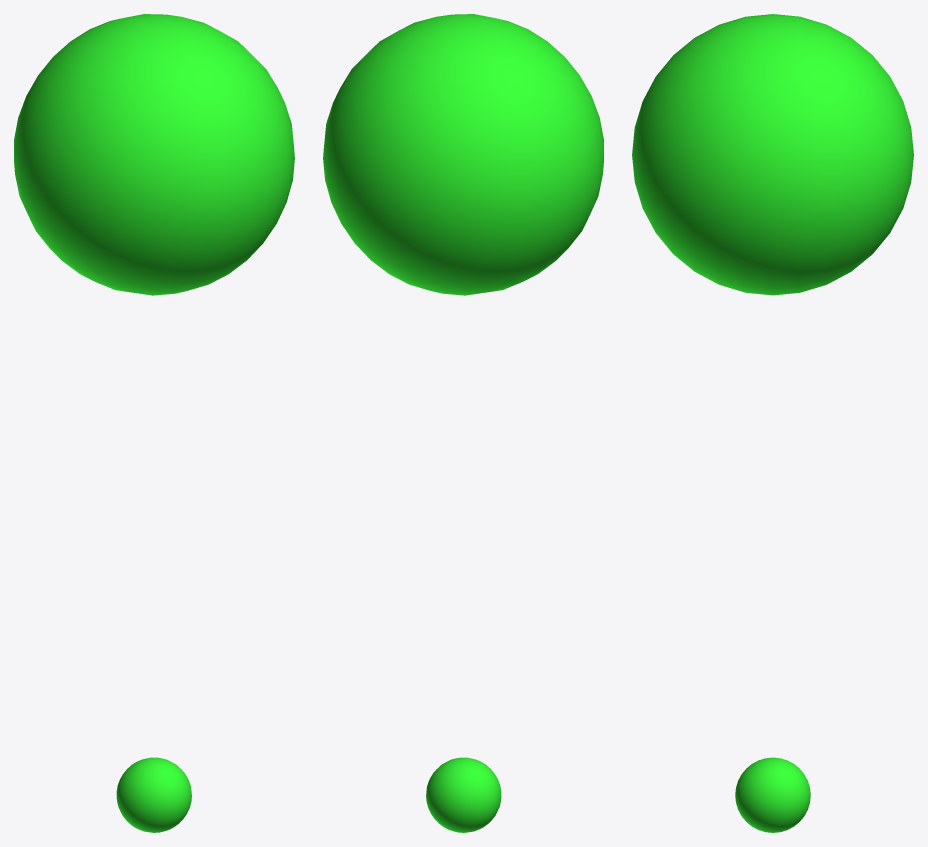
The model's file is Atom.obj.
The picture shows the model from 3 angles, left to right: view 1: azimuth 30°, elevation 25°; view 2: azimuth 150°, elevation 25°; view 3: azimuth 270°, elevation 25°; orthographic projection.
Visible parts, largest first — view 1: Atom; view 2: Atom; view 3: Atom.
Part boxes in pixels (x1=…): Atom: x1=14, y1=14, x2=294, y2=832; Atom: x1=323, y1=14, x2=603, y2=832; Atom: x1=632, y1=14, x2=913, y2=832.
Size of the model in its own units: 0.3185 by 1 by 0.3193.
